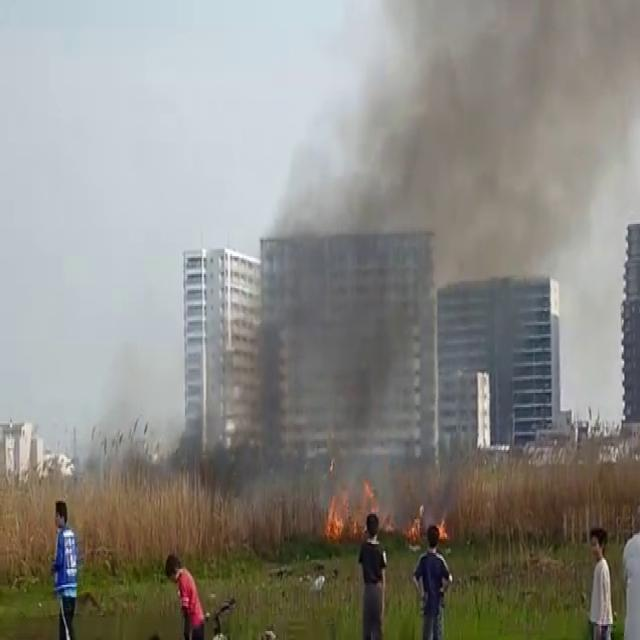Smoke: (250, 0, 640, 510)
